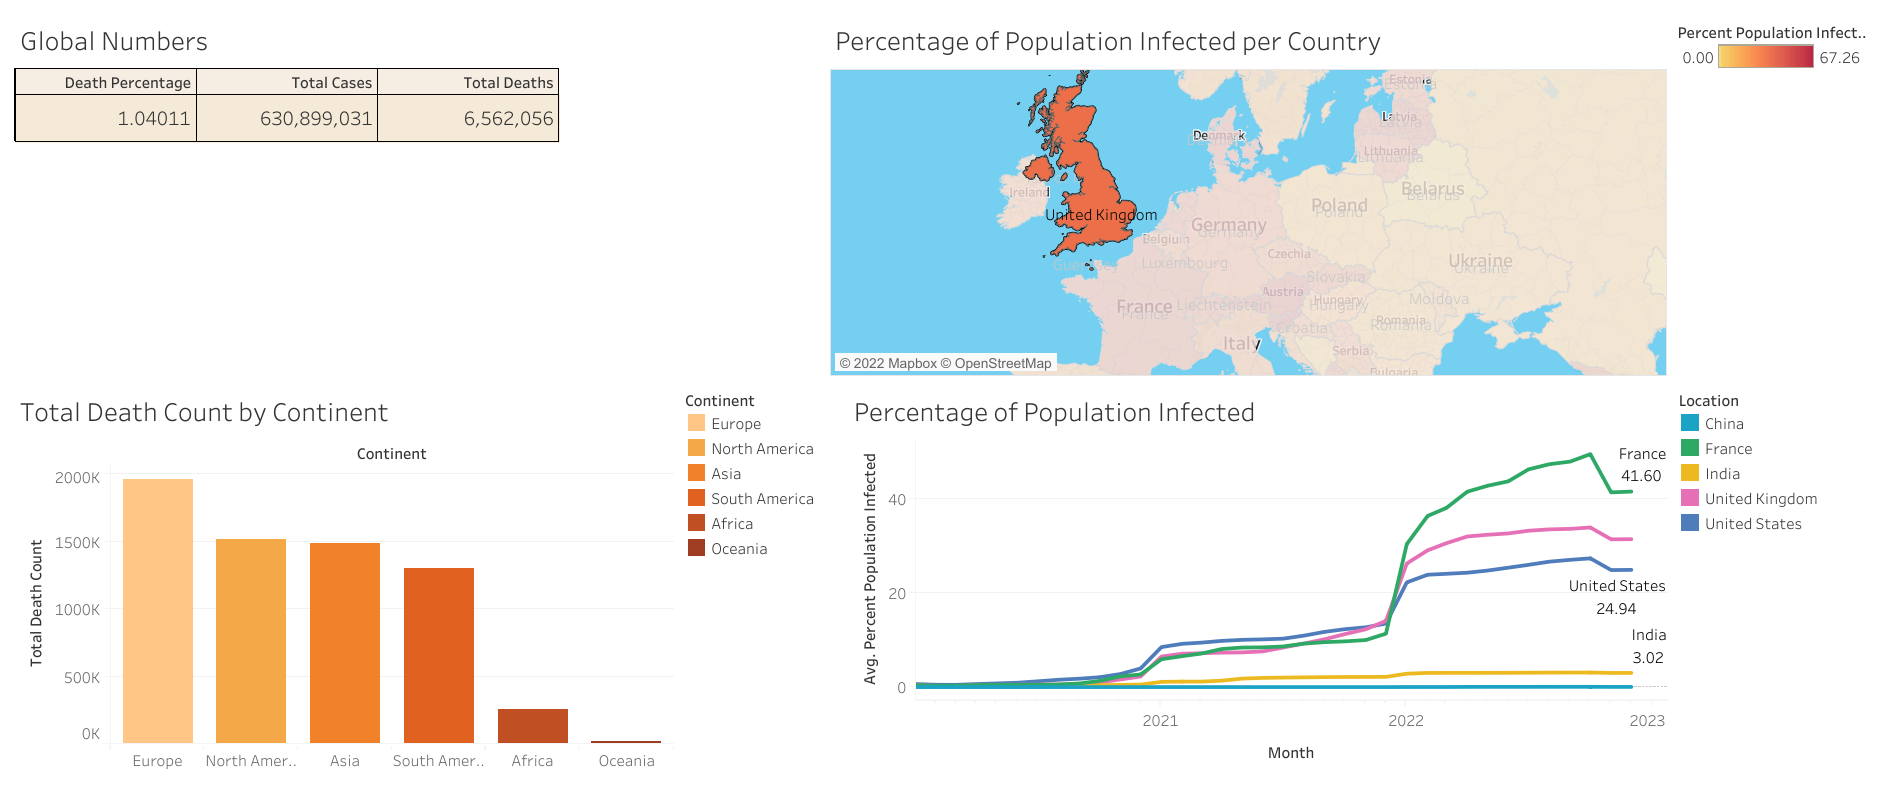

The page's visual inventory and layout, read from the dashboard file:
{"tool":"tableau","page":{"name":"Dashboard 1","canvas":[1000,1000],"units":"permille","ordinal":0},"visuals":[{"type":"worksheet","title":"Sheet 1","mark":"Automatic","box":[4.8,9.4,434,475.9]},{"type":"worksheet","title":"Sheet 3","mark":"Automatic","box":[438.7,9.4,450.8,475.9]},{"type":"legend","title":"Sheet 3","param":"[federated.1yh0p0u125jd001ffuhx60vzcerz].[sum:PercentPopulationInfected:qk]","box":[889.5,9.4,105.7,475.9]},{"type":"worksheet","title":"Sheet 2","mark":"Bar","rows":["TotalDeathCount"],"cols":["location"],"box":[4.8,485.3,355.8,505.3]},{"type":"legend","title":"Sheet 2","param":"[federated.0vei35b1tpw7yh1dlo97k1wbwxtg].[none:location:nk]","box":[360.6,485.3,87.8,505.3]},{"type":"worksheet","title":"Sheet 4","mark":"Automatic","rows":["PercentPopulationInfected"],"cols":["date"],"box":[448.4,485.3,441.1,505.3]},{"type":"legend","title":"Sheet 4","param":"[federated.0vybh8616djzez1cgb99x0sj136j].[none:Location:nk]","box":[889.5,485.3,105.7,505.3]}]}

Visuals, with their boxes on the dashboard's canvas, which has no fixed pixel size, in thousandths of its width and height (x1, y1, x2, y2). These are canvas units, not pixel positions in the 1880x785 screenshot, which may show the page scaled, cropped or inside an application window:
"Sheet 1" worksheet: <region>5, 9, 439, 485</region>
"Sheet 3" worksheet: <region>439, 9, 890, 485</region>
"Sheet 3" legend: <region>890, 9, 995, 485</region>
"Sheet 2" worksheet (Bar marks): <region>5, 485, 361, 991</region>
"Sheet 2" legend: <region>361, 485, 448, 991</region>
"Sheet 4" worksheet: <region>448, 485, 890, 991</region>
"Sheet 4" legend: <region>890, 485, 995, 991</region>
